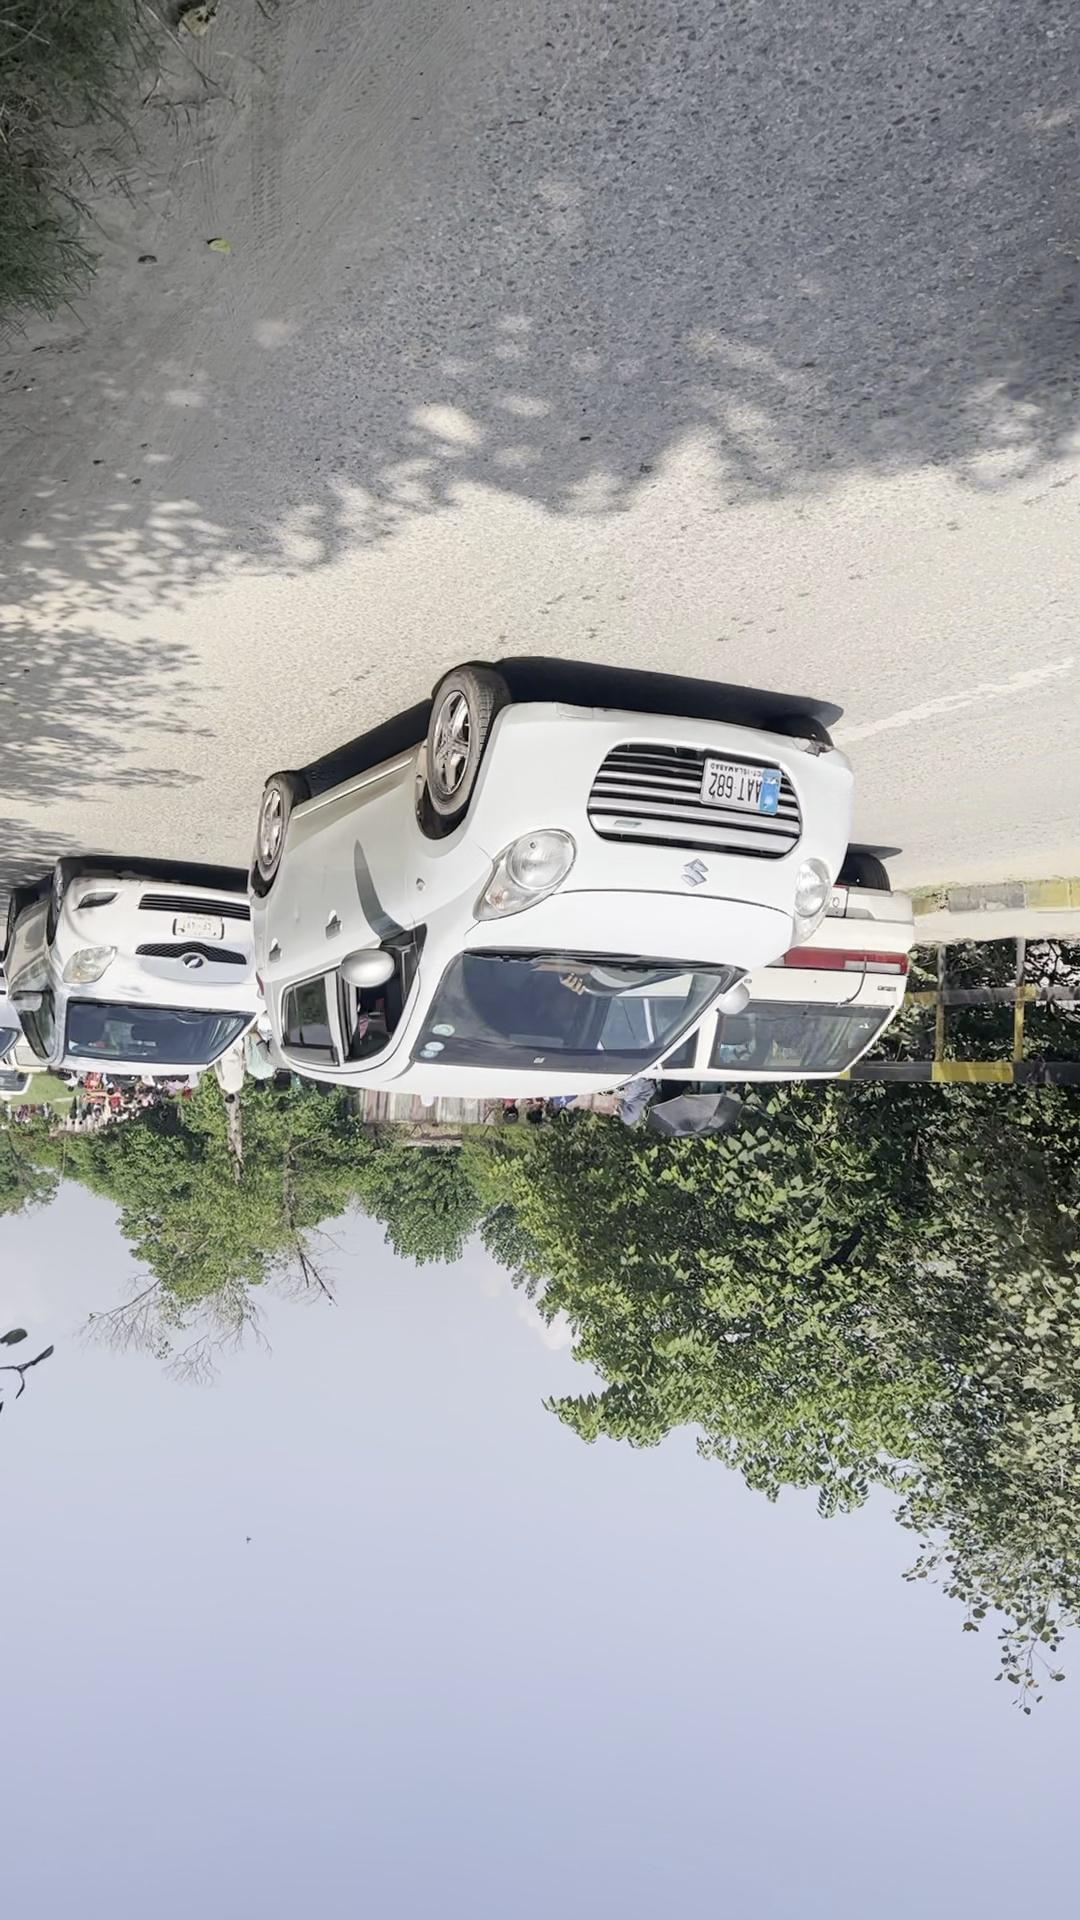windshield: (320, 851, 671, 996)
